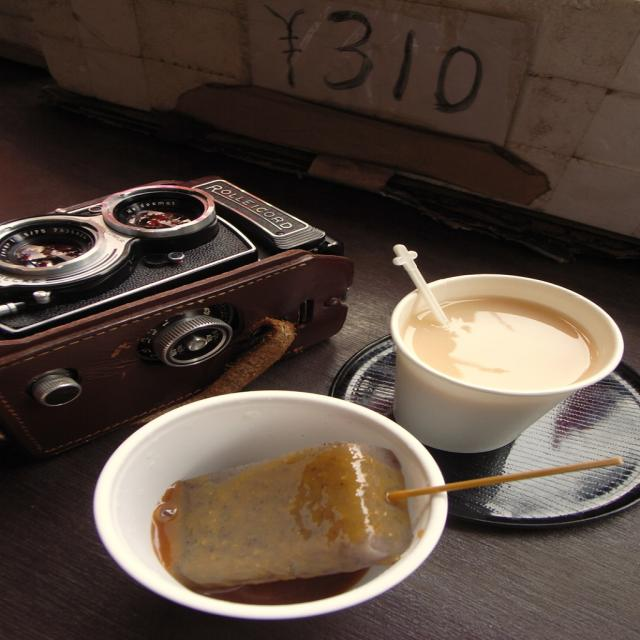Coffee: (383, 268, 622, 458)
Tea: (406, 295, 596, 391)
